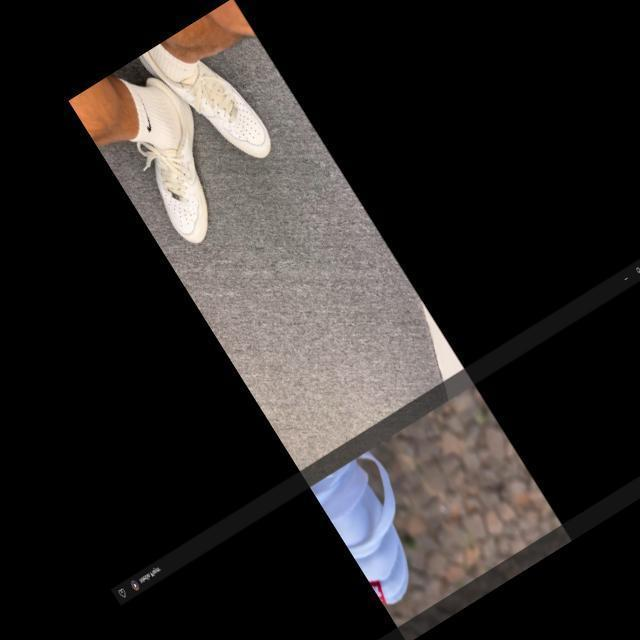nike original air force: (96, 62, 255, 249), (138, 18, 279, 185)
